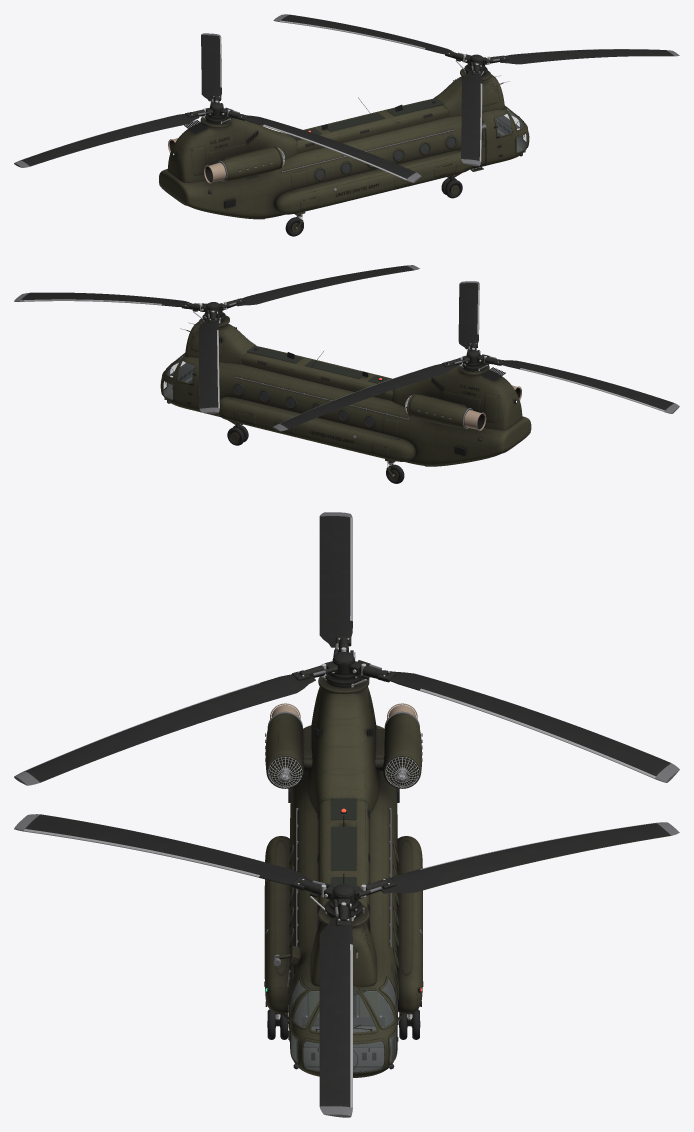
Rendered from chinook.glb.
The picture shows the model from 3 angles, top to bottom: view 1: azimuth 30°, elevation 25°; view 2: azimuth 150°, elevation 25°; view 3: azimuth 270°, elevation 25°; orthographic projection. The views are drawn at different scales.
Parts seen in each view (by area): view 1: hull, sp_sponson_R, rp_pylon, fu_dorsal, rr_blade1, fr_blade2, fr_blade0, rr_blade2, en_nacelle_L_R, rr_blade0, fr_blade1, fp_pylon (+6 smaller); view 2: hull, sp_sponson_L, rp_pylon, fu_dorsal, rr_blade0, fr_blade1, fr_blade2, rr_blade1, en_nacelle_L, fp_pylon, rr_blade2, fr_blade0 (+7 smaller); view 3: hull, rp_pylon, fr_blade0, rr_blade2, fr_blade1, rr_blade0, fr_blade2, rr_blade1, sp_sponson_R, sp_sponson_L, ck_glass, fu_dorsal (+7 smaller).
Boxes of the visible parts, <box> form: hull: <box>159,108,528,218</box>; sp_sponson_R: <box>274,149,472,214</box>; rp_pylon: <box>167,118,297,182</box>; fu_dorsal: <box>287,98,448,153</box>; rr_blade1: <box>21,114,199,166</box>; fr_blade2: <box>461,71,482,160</box>; fr_blade0: <box>499,49,674,64</box>; rr_blade2: <box>244,115,415,178</box>; en_nacelle_L_R: <box>218,147,281,180</box>; rr_blade0: <box>201,35,221,101</box>; fr_blade1: <box>281,14,453,56</box>; fp_pylon: <box>433,74,504,116</box>; hull: <box>161,355,531,466</box>; sp_sponson_L: <box>217,396,415,461</box>; rp_pylon: <box>392,365,522,430</box>; fu_dorsal: <box>241,346,392,400</box>; rr_blade0: <box>279,364,456,429</box>; fr_blade1: <box>198,319,218,408</box>; fr_blade2: <box>235,265,414,306</box>; rr_blade1: <box>501,360,674,410</box>; en_nacelle_L: <box>409,394,470,428</box>; fp_pylon: <box>185,321,256,364</box>; rr_blade2: <box>458,283,478,349</box>; fr_blade0: <box>21,292,191,307</box>; hull: <box>290,725,397,1077</box>; rp_pylon: <box>307,687,380,812</box>; fr_blade0: <box>319,917,352,1107</box>; rr_blade2: <box>25,674,315,782</box>; fr_blade1: <box>380,823,670,893</box>; rr_blade0: <box>377,670,670,776</box>; fr_blade2: <box>25,814,312,888</box>; rr_blade1: <box>319,516,352,647</box>; sp_sponson_R: <box>264,836,292,1013</box>; sp_sponson_L: <box>394,836,422,1013</box>; ck_glass: <box>290,979,396,1071</box>; fu_dorsal: <box>318,800,369,921</box>.
Size of the model in its own units: 30.09 by 5.7 by 16.17.
Materials: 26 (6 with a texture image).
